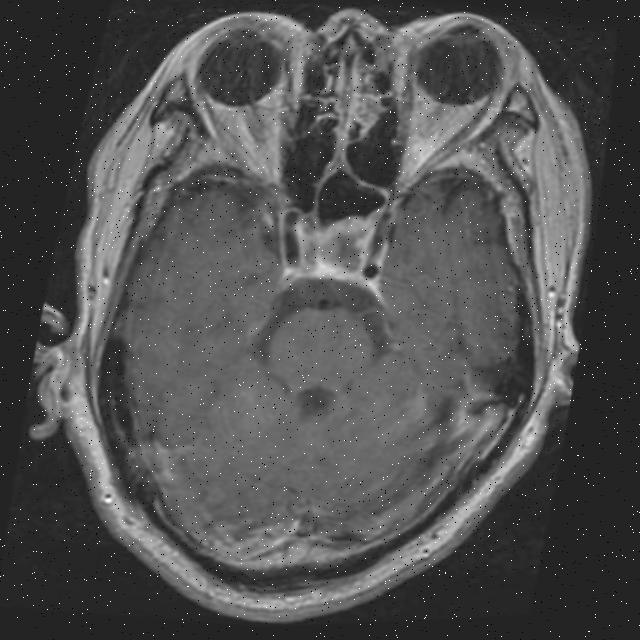Pituitary: (285, 205, 377, 285)
